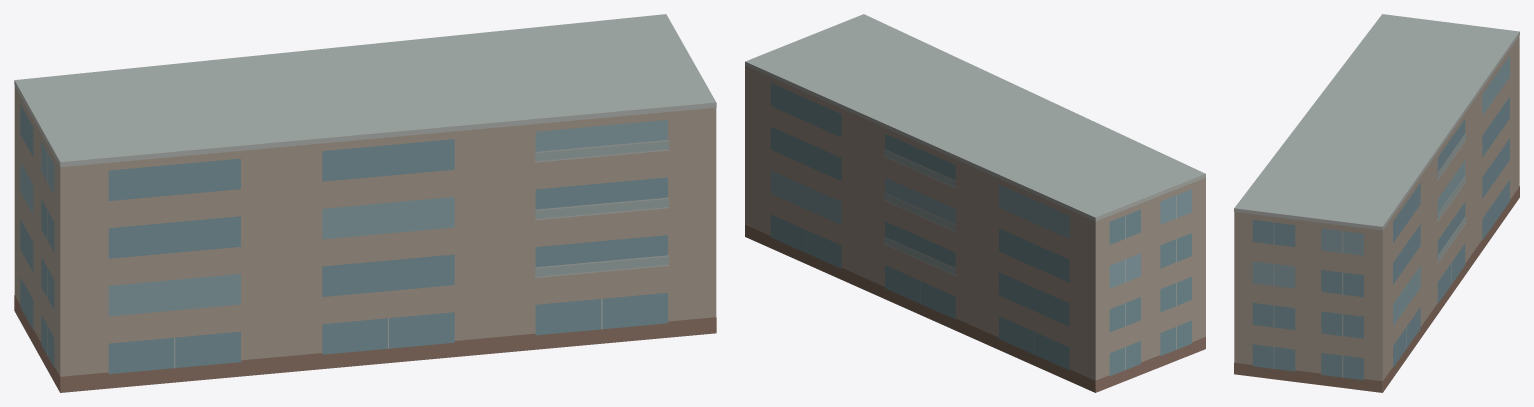
File: survey-upis-32856514.glb
The picture shows the model from 3 angles, left to right: view 1: azimuth 30°, elevation 25°; view 2: azimuth 150°, elevation 25°; view 3: azimuth 270°, elevation 25°; orthographic projection. The views are drawn at different scales.
Parts seen in each view (by area): view 1: survey-upis-32856514.tmp; view 2: survey-upis-32856514.tmp; view 3: survey-upis-32856514.tmp.
Part boxes in pixels (x1,y1,x2,y2): survey-upis-32856514.tmp: (14,14,716,392); survey-upis-32856514.tmp: (745,14,1205,392); survey-upis-32856514.tmp: (1234,14,1519,392).
Bounding box in the file's own units: 30.68 × 11.15 × 17.4.
